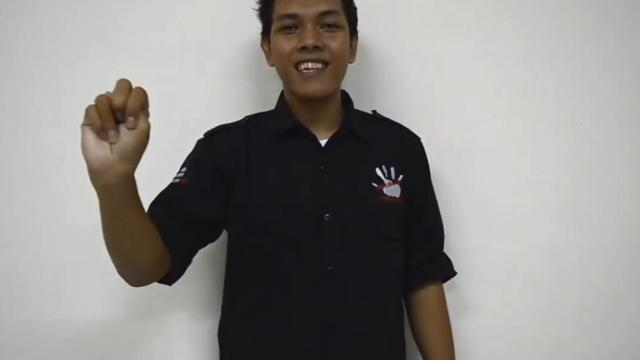N: (80, 75, 150, 173)
